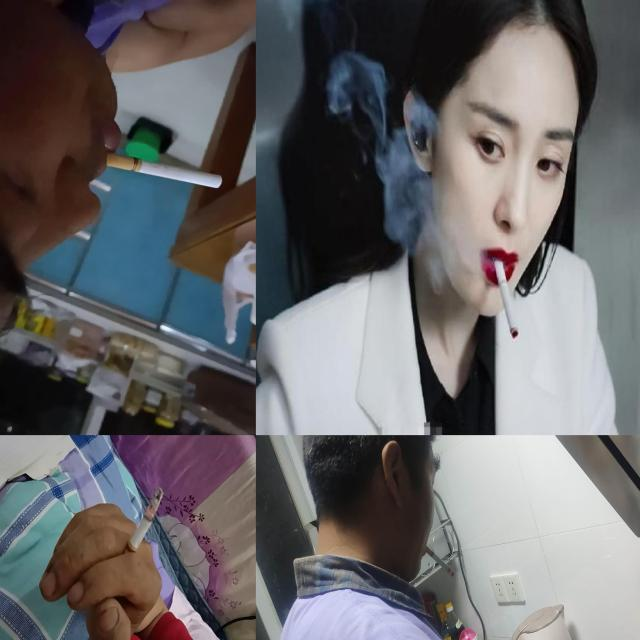smoking: (106, 153, 222, 189), (122, 486, 164, 566), (492, 258, 520, 342), (424, 545, 456, 578)
